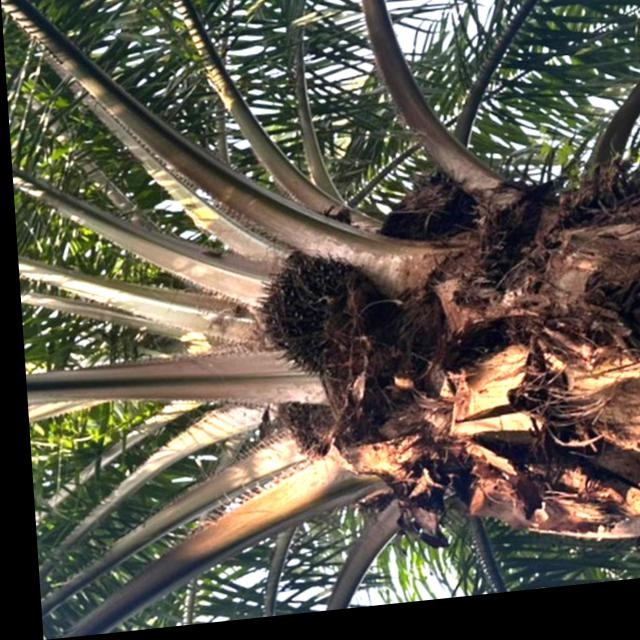unripe: (237, 241, 376, 395)
